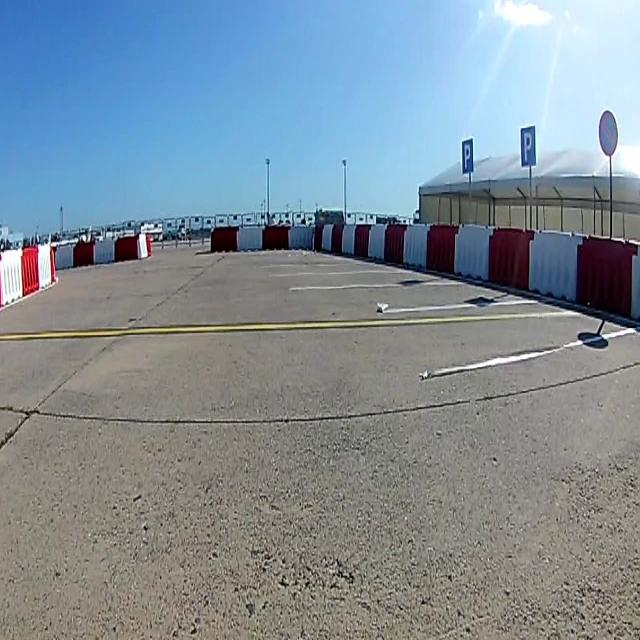park: (520, 125, 536, 168), (461, 138, 474, 174)
parkyasak: (600, 111, 618, 156)
